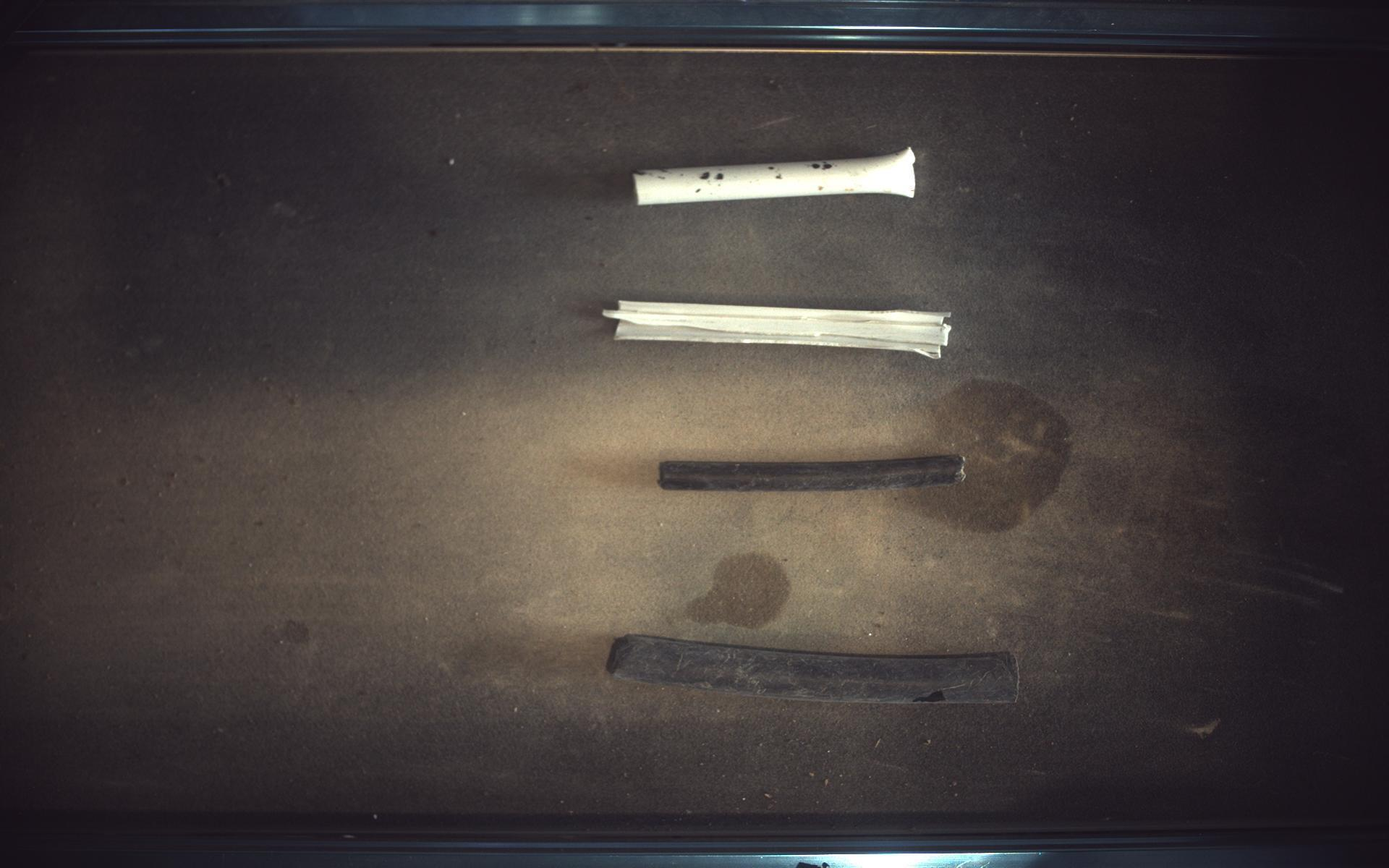pipes: (608, 636, 1020, 705), (603, 300, 953, 359), (634, 146, 917, 205), (660, 455, 967, 492)
